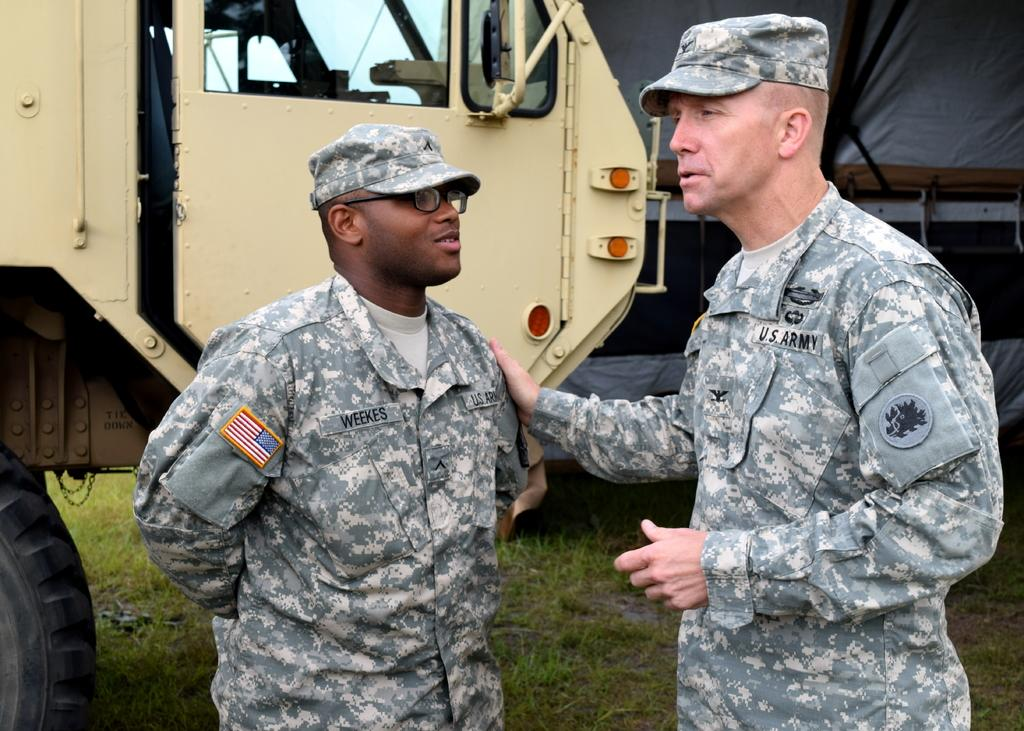Hat: (637, 16, 831, 121), (304, 119, 477, 205)
